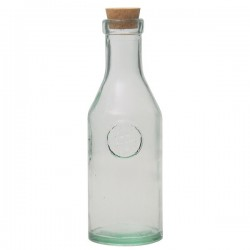glass_bottle: (82, 5, 169, 247)
